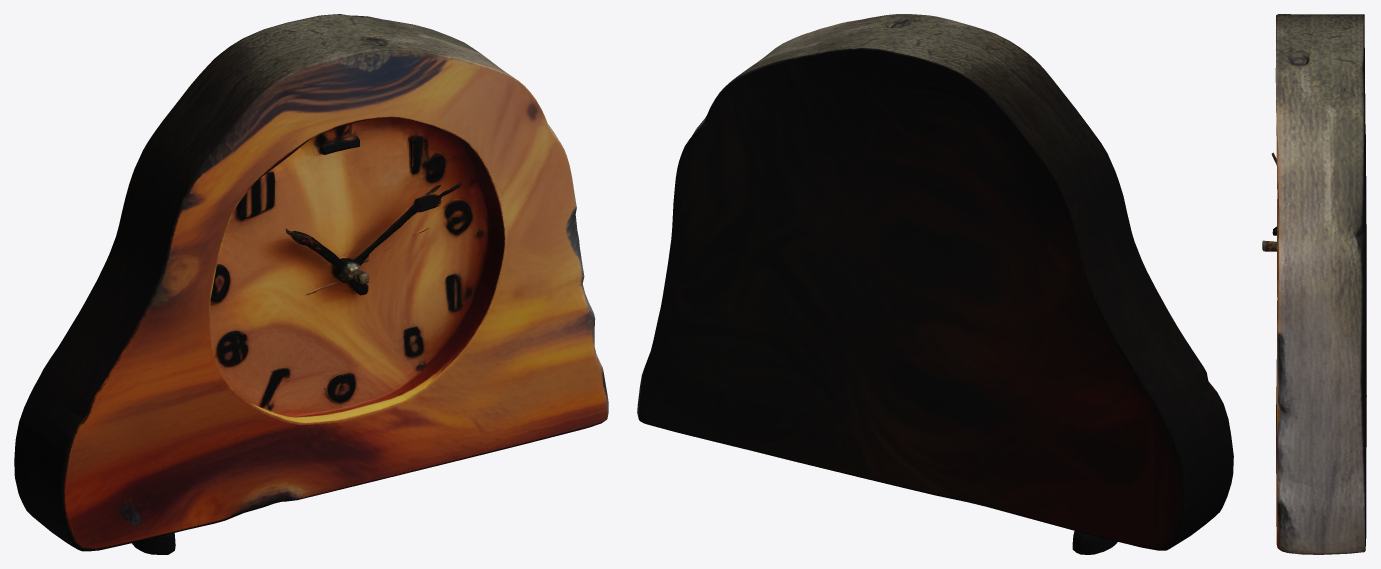
File: reclaimed-wood-desk-clock-rustic.jpeg.glb
3 views of the same model, side by side, from view 1: azimuth 30°, elevation 25°; view 2: azimuth 150°, elevation 25°; view 3: azimuth 270°, elevation 25° (orthographic). The views are drawn at different scales.
Visible parts, largest first — view 1: world; view 2: world; view 3: world.
Boxes of the visible parts, <box> form: world: <box>14,14,608,554</box>; world: <box>637,14,1233,554</box>; world: <box>1262,14,1366,554</box>.
Bounding box in the file's own units: 0.9944 × 0.7973 × 0.1762.
1 material, 1 textured.
